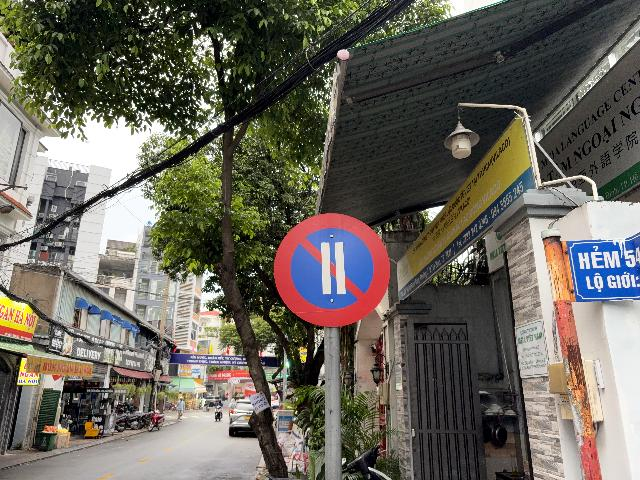cam-do-xe-ngay-chan: (273, 211, 390, 328)
